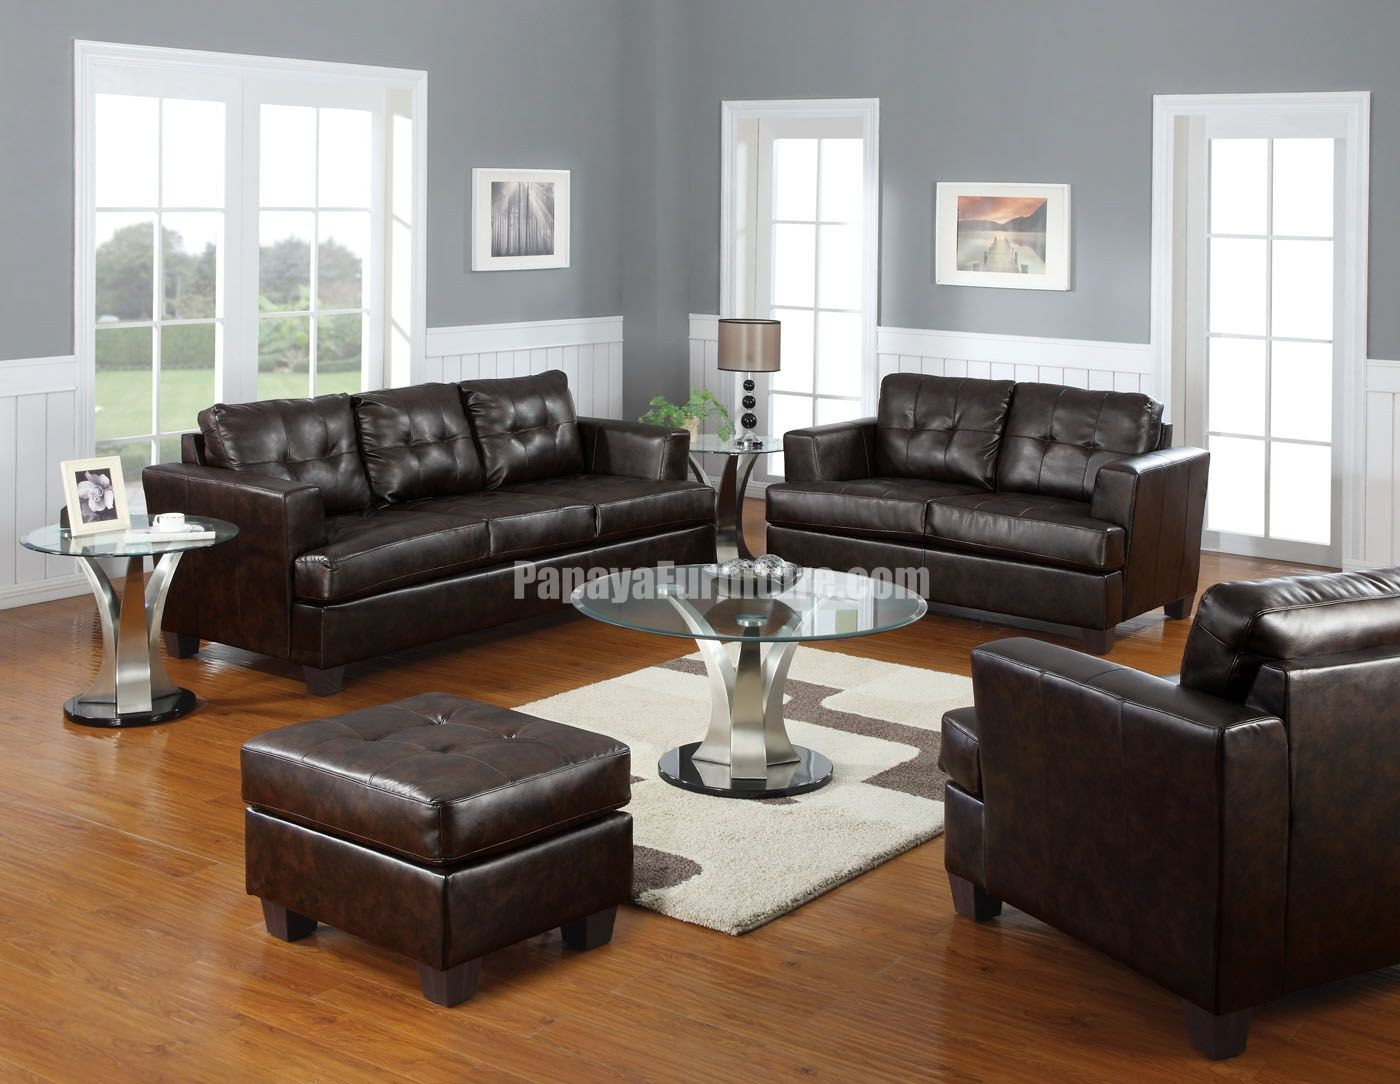chairs: (939, 560, 1400, 1061), (139, 366, 727, 697), (766, 368, 1212, 658), (248, 687, 640, 1012)
